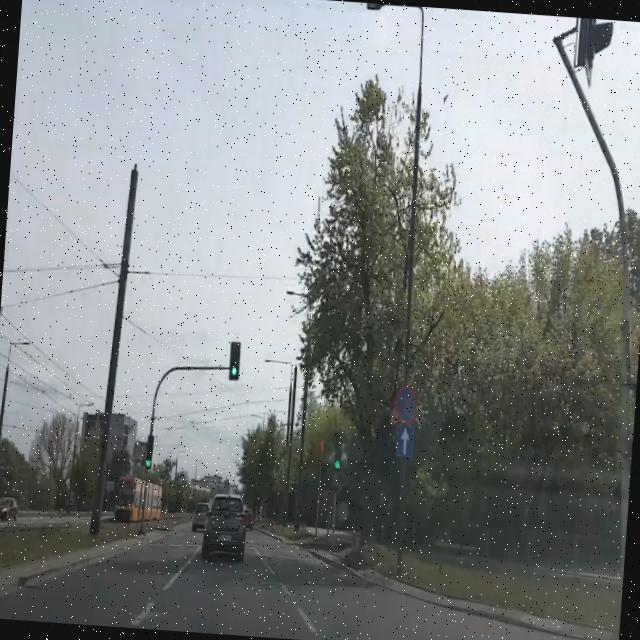Ustap pierwszenstwa: (318, 440, 324, 454)
Zakaz zatrzymywania sie: (394, 384, 418, 424)
